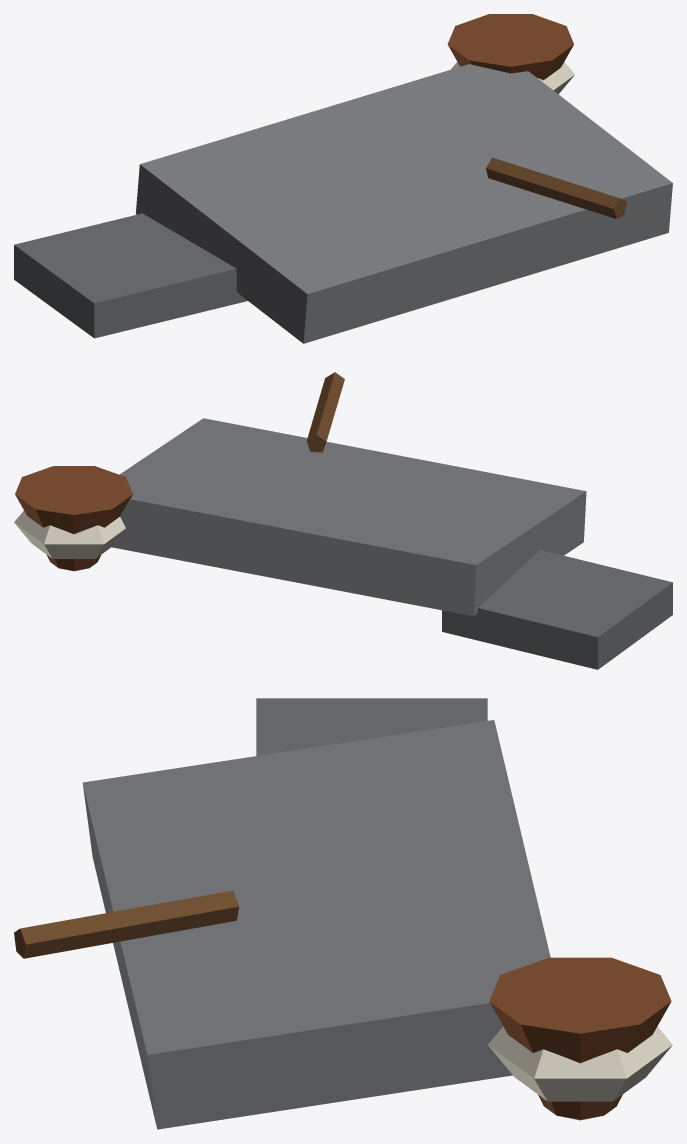
Rendered from br_x_washing_stone.glb.
The picture shows the model from 3 angles, top to bottom: view 1: azimuth 30°, elevation 25°; view 2: azimuth 150°, elevation 25°; view 3: azimuth 270°, elevation 25°; orthographic projection. The views are drawn at different scales.
Parts seen in each view (by area): view 1: br_x_washing_stone; view 2: br_x_washing_stone; view 3: br_x_washing_stone.
Boxes of the visible parts, <box> form: br_x_washing_stone: <box>14,14,672,343</box>; br_x_washing_stone: <box>14,372,672,669</box>; br_x_washing_stone: <box>14,698,672,1129</box>.
Size of the model in its own units: 2.1 by 0.3182 by 1.42.
